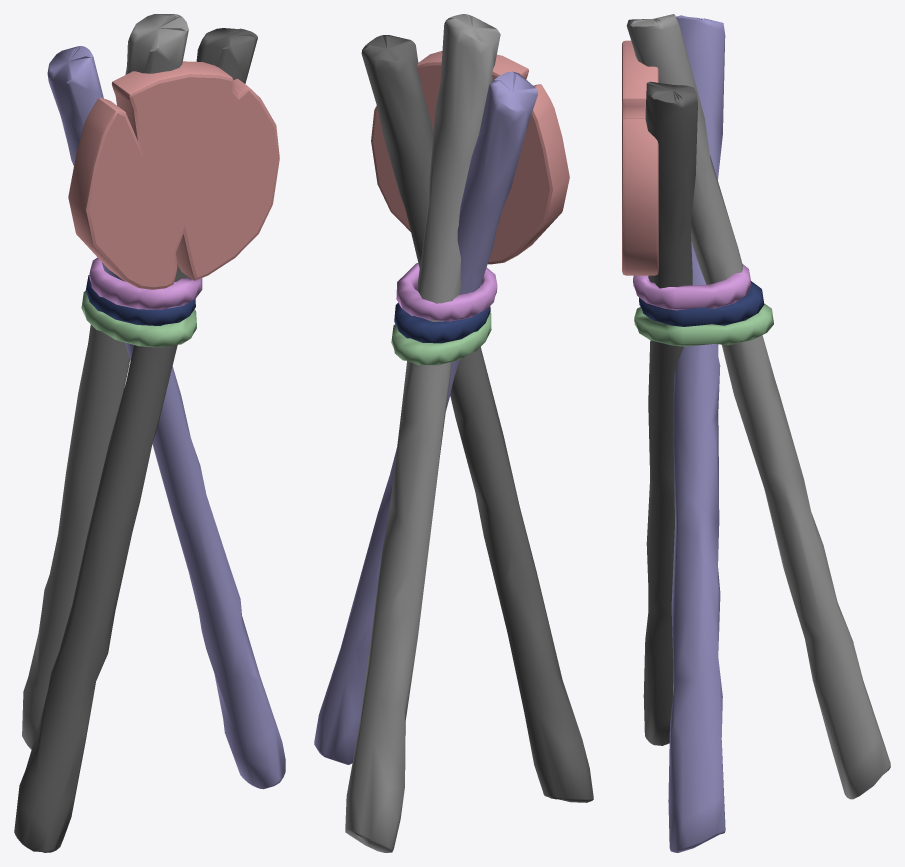
File: Wooden target.FBX
3 views of the same model, side by side, from view 1: azimuth 30°, elevation 25°; view 2: azimuth 150°, elevation 25°; view 3: azimuth 270°, elevation 25° (orthographic). The views are drawn at different scales.
Parts seen in each view (by area): view 1: Circle004, Cylinder001, Cylinder002, Cylinder003, Circle006, Circle003, Circle005; view 2: Cylinder003, Cylinder001, Cylinder002, Circle004, Circle006, Circle003, Circle005; view 3: Cylinder003, Cylinder002, Cylinder001, Circle004, Circle003, Circle006, Circle005.
Part boxes in pixels (left/top/right/bottom): Circle004: left=68, top=61, right=279, bottom=289; Cylinder001: left=14, top=28, right=257, bottom=852; Cylinder002: left=47, top=46, right=285, bottom=789; Cylinder003: left=22, top=14, right=188, bottom=749; Circle006: left=89, top=257, right=202, bottom=309; Circle003: left=81, top=291, right=196, bottom=347; Circle005: left=85, top=275, right=195, bottom=325; Cylinder003: left=345, top=14, right=500, bottom=852; Cylinder001: left=361, top=35, right=593, bottom=802; Cylinder002: left=314, top=71, right=537, bottom=764; Circle004: left=371, top=50, right=569, bottom=264; Circle006: left=396, top=263, right=497, bottom=321; Circle003: left=391, top=312, right=491, bottom=365; Circle005: left=394, top=303, right=490, bottom=343; Cylinder003: left=626, top=14, right=890, bottom=799; Cylinder002: left=668, top=15, right=725, bottom=852; Cylinder001: left=643, top=81, right=697, bottom=745; Circle004: left=622, top=40, right=658, bottom=275; Circle003: left=634, top=303, right=773, bottom=346; Circle006: left=633, top=264, right=751, bottom=310; Circle005: left=639, top=281, right=764, bottom=326.
Size of the model in its own units: 35.89 by 99.44 by 30.89.
